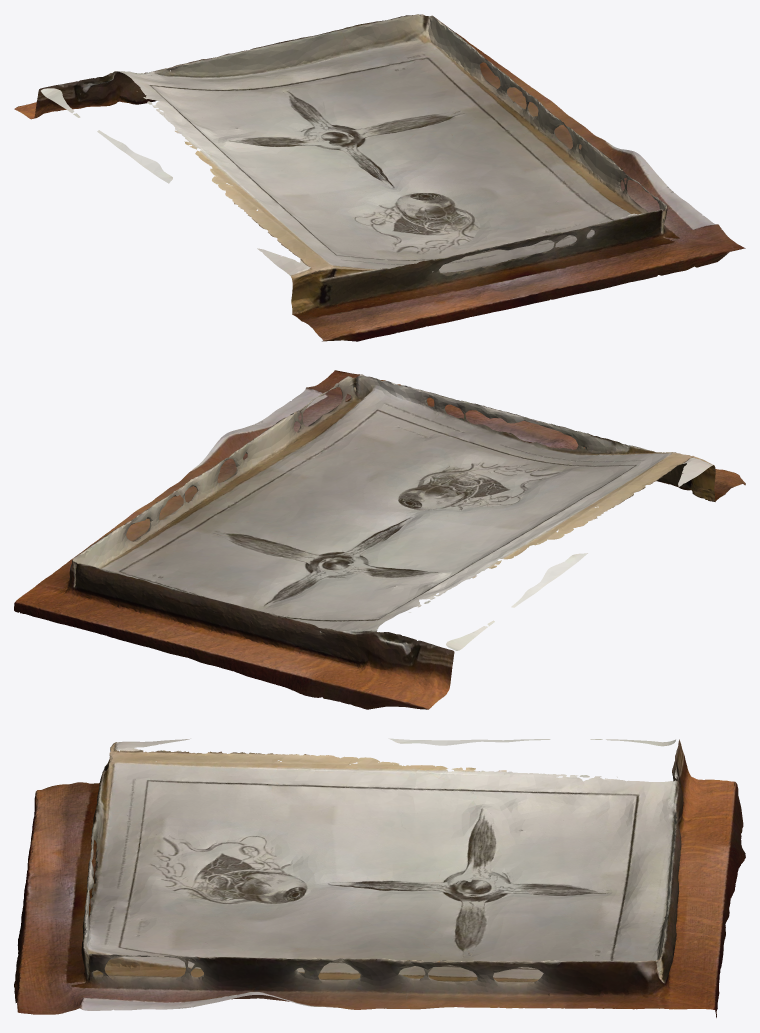
The model's file is scan11.glb.
The picture shows the model from 3 angles, top to bottom: view 1: azimuth 30°, elevation 25°; view 2: azimuth 150°, elevation 25°; view 3: azimuth 270°, elevation 25°; orthographic projection. The views are drawn at different scales.
Bounding box in the file's own units: 1.45 × 0.1682 × 2.
Materials: 1 (1 with a texture image).
